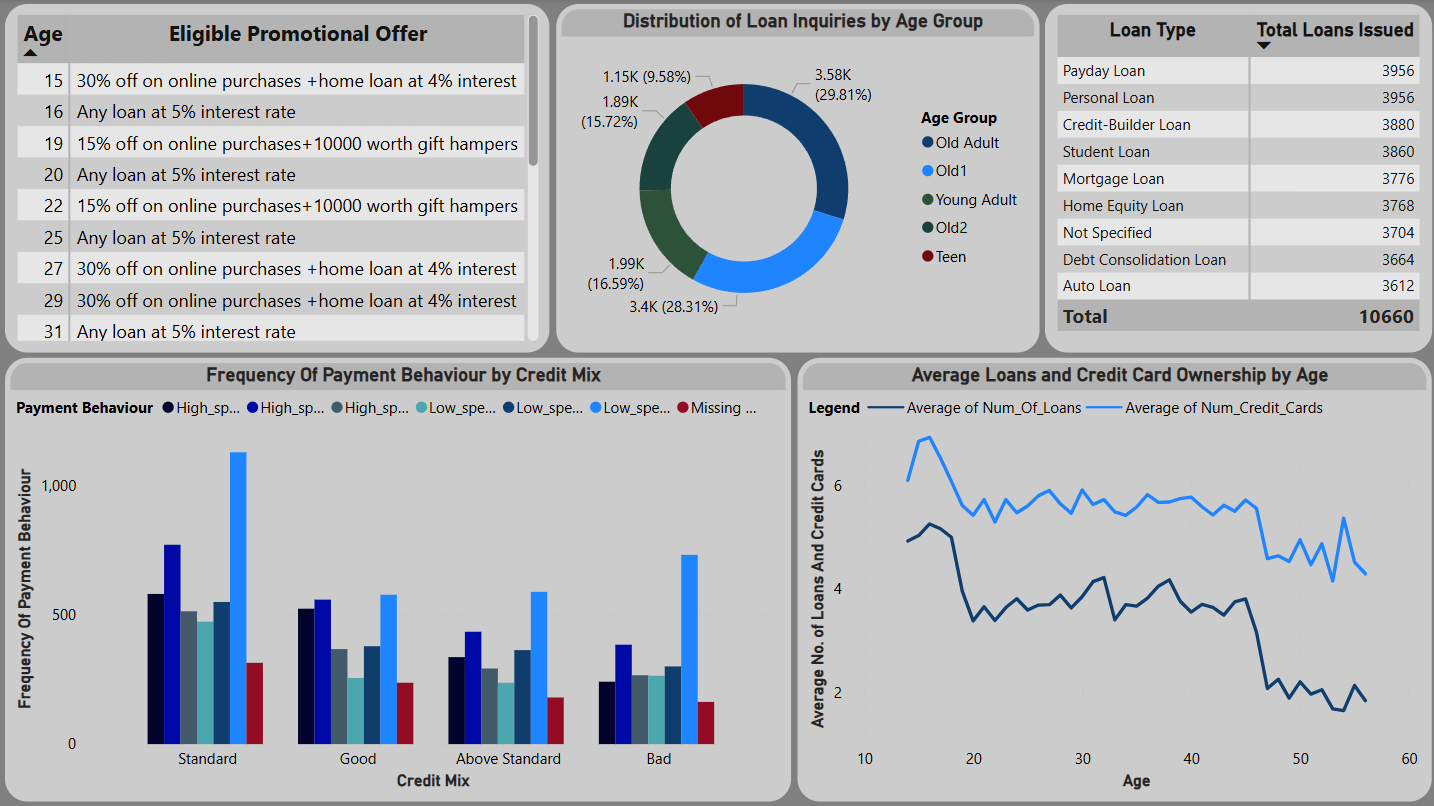

The dashboard page shown, as its layout file describes it:
{"tool":"powerbi","page":{"name":"Page 2","canvas":[1280,720],"ordinal":1},"visuals":[{"type":"clusteredColumnChart","title":"Frequency Of Payment Behaviour by Credit Mix","fields":{"Y":["CountNonNull(combined_df.Payment_Behaviour)"],"Category":["combined_df.Credit_Mix"],"Series":["combined_df.Payment_Behaviour"]},"box":[5,320,700,395],"z":0},{"type":"donutChart","title":"Distribution of Loan Inquiries by Age Group","fields":{"Category":["combined_df.Age Group"],"Y":["CountNonNull(combined_df.Num_Credit_Inquiries)"]},"box":[495,5,430,310.2],"z":1000},{"type":"tableEx","fields":{"Values":["Sum(combined_df.Age)","Table.LTV Score"]},"box":[5,5,485,310],"z":2000},{"type":"lineChart","title":"Average Loans and Credit Card Ownership by Age","fields":{"Category":["combined_df.Age"],"Y":["Avg(combined_df.Num_Of_Loans)","Avg(combined_df.Num_Credit_Cards)"]},"box":[710,320,565,395],"z":3000},{"type":"tableEx","fields":{"Values":["combined_df (2).Type_of_Loan","combined_df (2).ID"]},"box":[930.6,5,345,310.2],"z":4000}]}

Visuals, with their boxes in screenshot pixels (x1, y1, x2, y2), scaled from the page's 1280x720 canvas onto the 1434x806 screenshot:
"Frequency Of Payment Behaviour by Credit Mix" clusteredColumnChart: Rect(6, 358, 790, 800)
"Distribution of Loan Inquiries by Age Group" donutChart: Rect(555, 6, 1036, 353)
tableEx - Sum(combined_df.Age) x Table.LTV Score: Rect(6, 6, 549, 353)
"Average Loans and Credit Card Ownership by Age" lineChart: Rect(795, 358, 1428, 800)
tableEx - combined_df (2).Type_of_Loan x combined_df (2).ID: Rect(1043, 6, 1429, 353)
